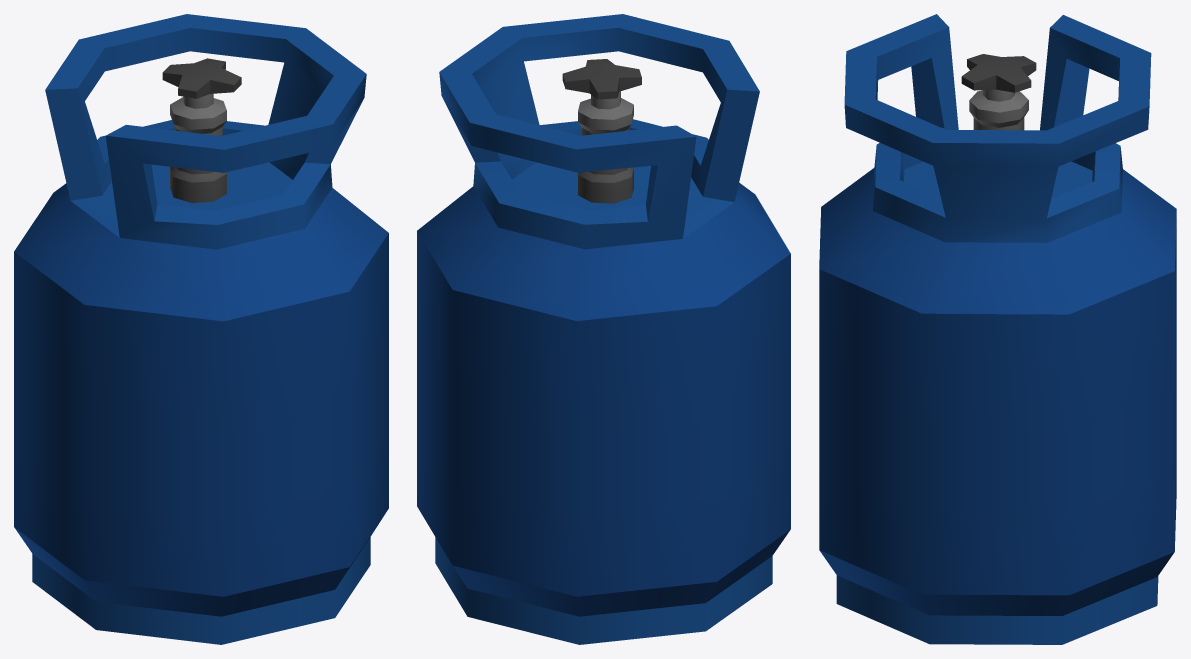
Rendered from GasCylinder_2_4.glb.
3 renders of one model, left to right at view 1: azimuth 30°, elevation 25°; view 2: azimuth 150°, elevation 25°; view 3: azimuth 270°, elevation 25°, orthographic.
Visible parts, largest first — view 1: GasCylinder_2_4; view 2: GasCylinder_2_4; view 3: GasCylinder_2_4.
Boxes of the visible parts, x1=… form: GasCylinder_2_4: x1=14, y1=14, x2=388, y2=644; GasCylinder_2_4: x1=417, y1=14, x2=790, y2=644; GasCylinder_2_4: x1=819, y1=14, x2=1176, y2=644.
Bounding box in the file's own units: 0.3847 × 0.607 × 0.3847.
Materials: 3 (3 with a texture image).
